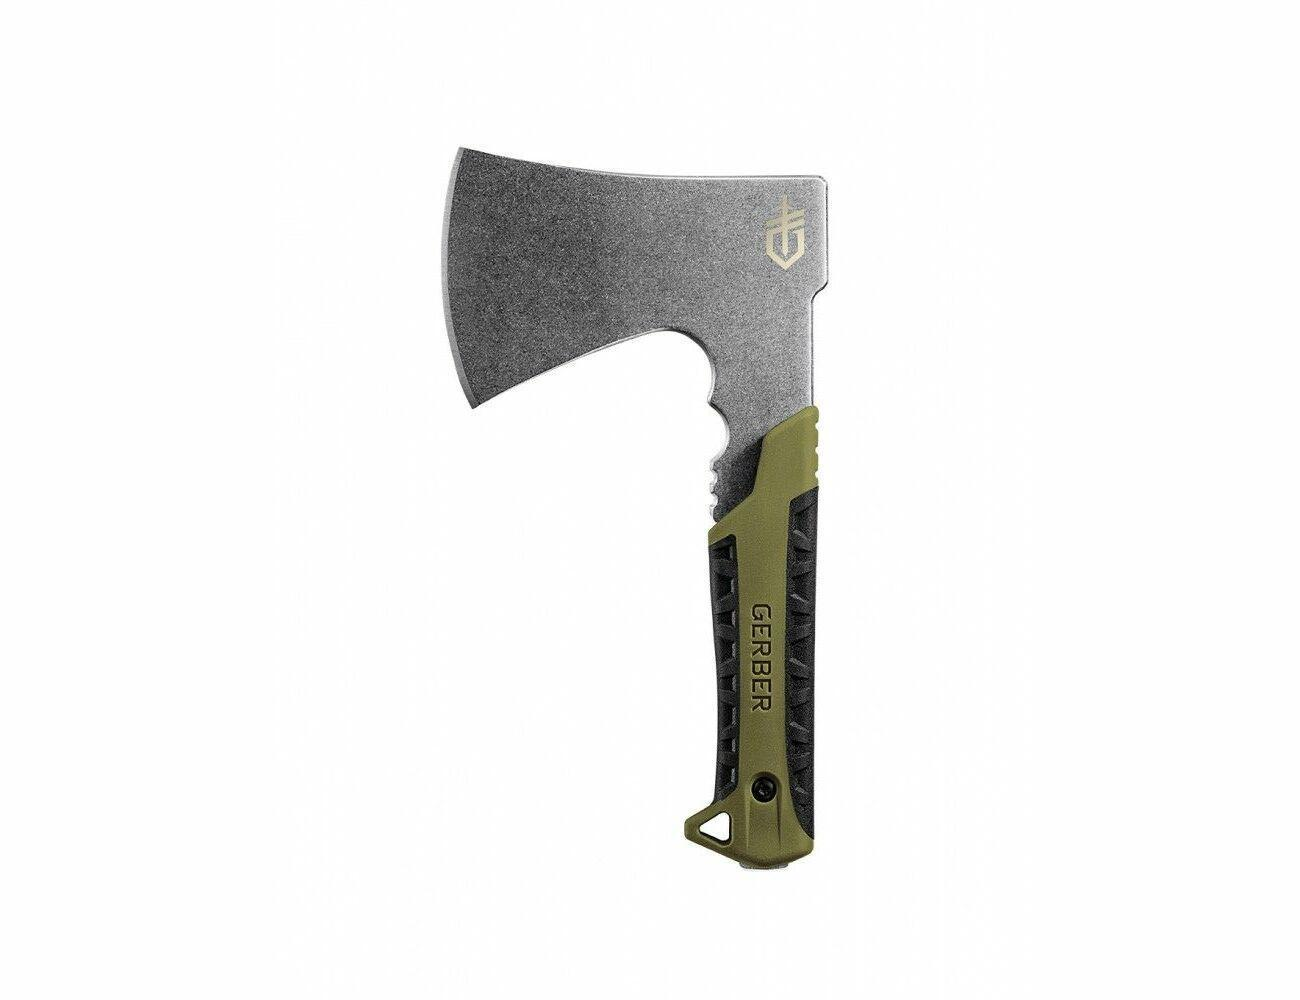machado: (444, 149, 827, 867)
